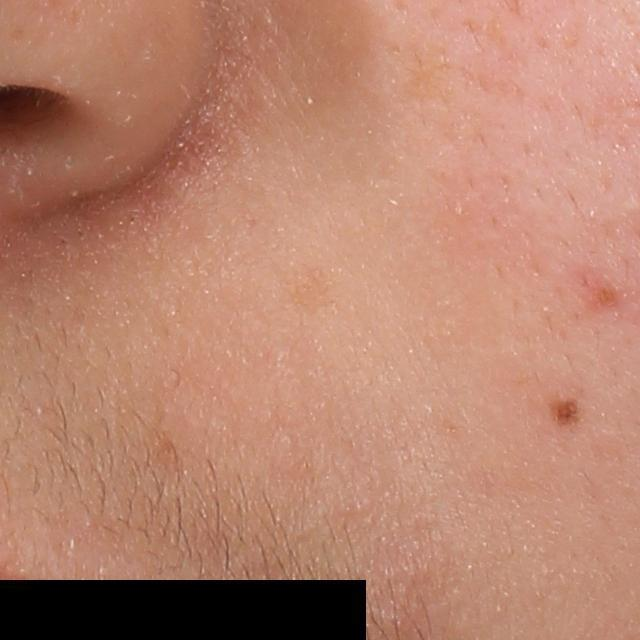nevus: (545, 397, 580, 426)
